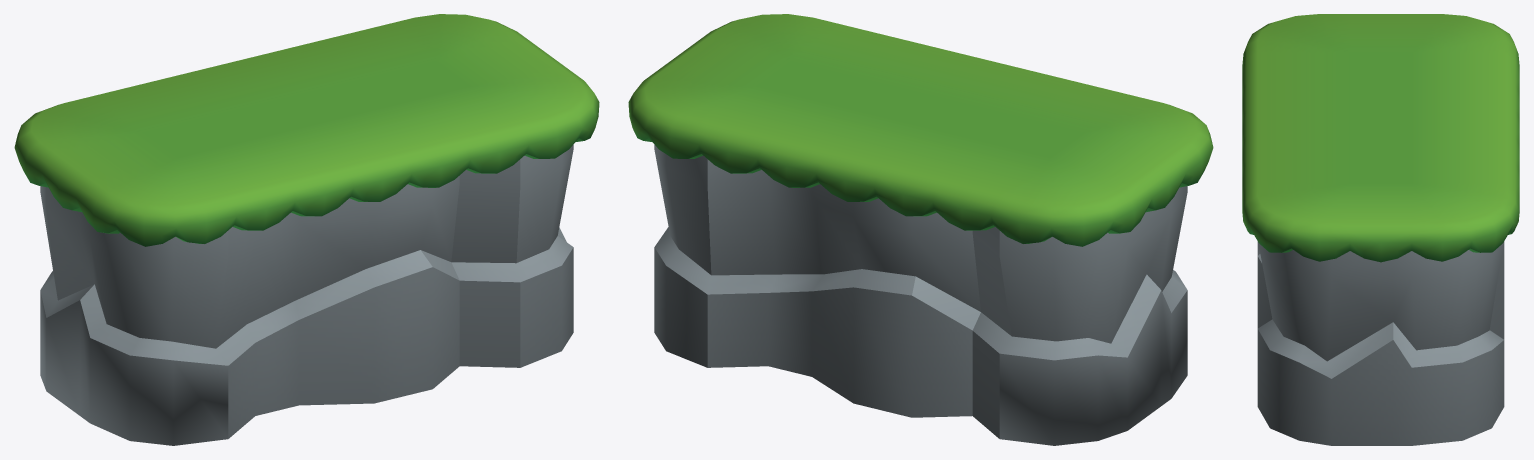
File: Hill_8x4x4_Color1.gltf
3 renders of one model, left to right at view 1: azimuth 30°, elevation 25°; view 2: azimuth 150°, elevation 25°; view 3: azimuth 270°, elevation 25°, orthographic. The views are drawn at different scales.
Visible parts, largest first — view 1: Hill_8x4x4_Color1; view 2: Hill_8x4x4_Color1; view 3: Hill_8x4x4_Color1.
Boxes of the visible parts, x1,y1,x2,y2 form: Hill_8x4x4_Color1: (14, 14, 599, 445); Hill_8x4x4_Color1: (628, 14, 1213, 445); Hill_8x4x4_Color1: (1242, 14, 1519, 445).
Bounding box in the file's own units: 8.5 × 4 × 4.5.
Materials: 1 (1 with a texture image).
